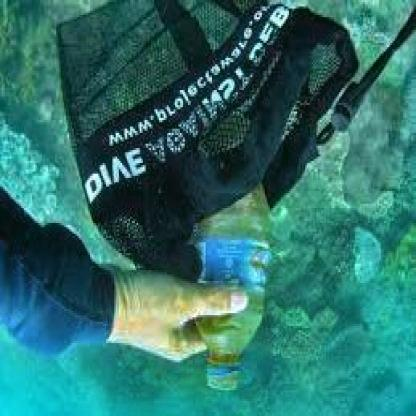pbottle: (188, 94, 272, 399)
